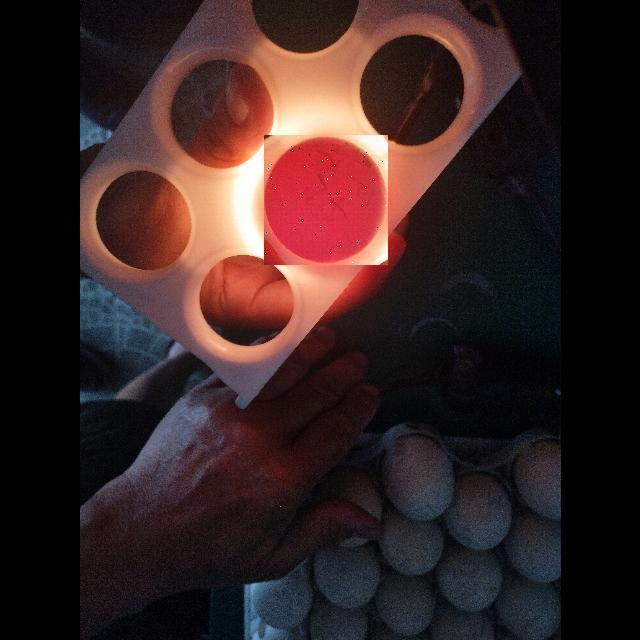Infertile: (264, 135, 388, 265)
